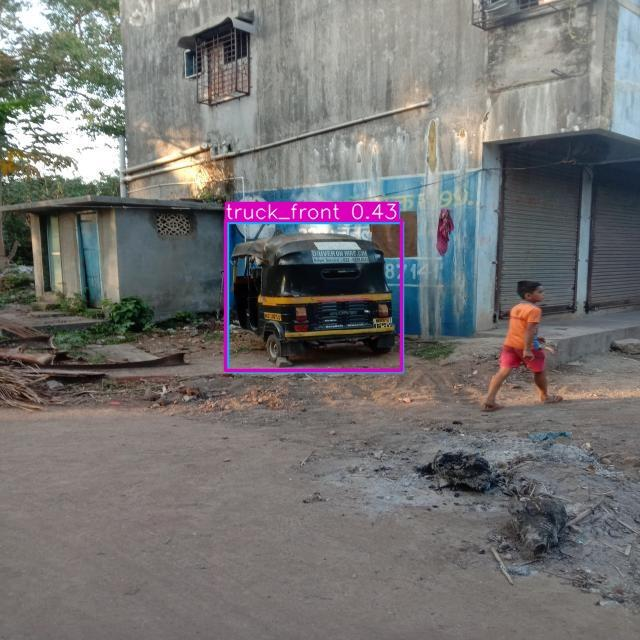auto_back: (220, 226, 400, 368)
